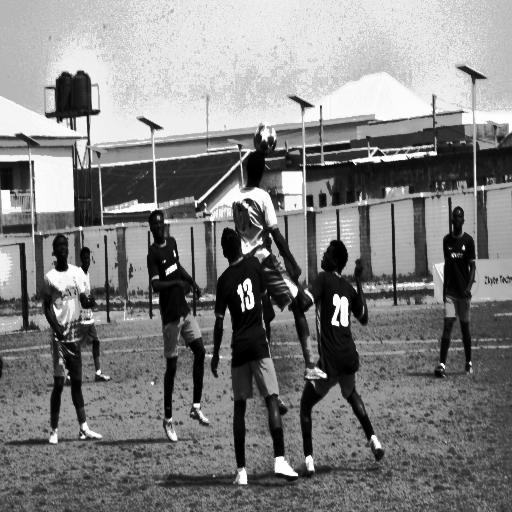ball: (254, 114, 278, 156)
team1: (229, 131, 333, 382), (44, 227, 108, 447), (72, 243, 114, 381)
team2: (190, 226, 309, 490), (298, 239, 388, 481), (138, 204, 215, 441), (430, 198, 480, 386)
